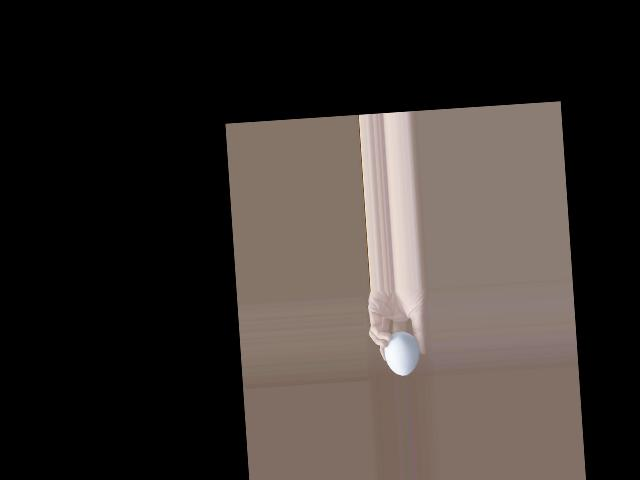egg: (382, 330, 420, 377)
